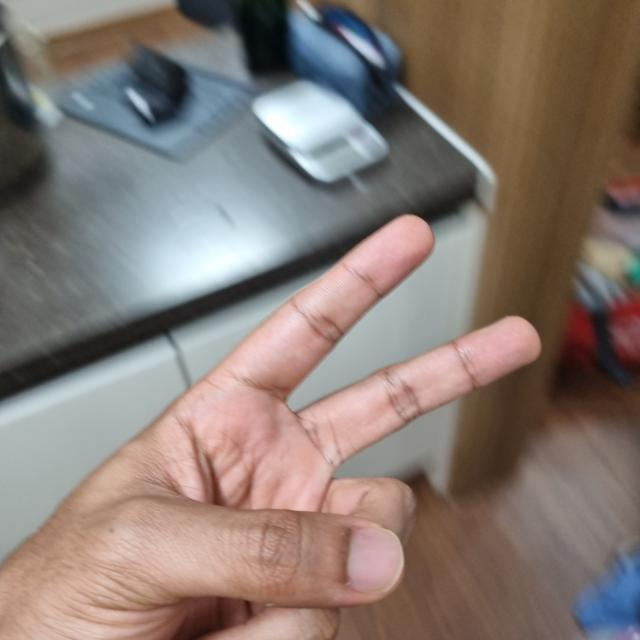Scissors: (0, 219, 527, 638)
